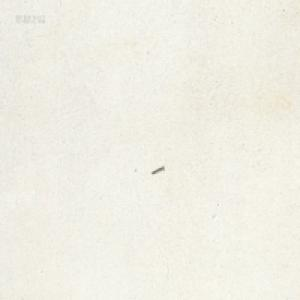Bolt: (150, 165, 164, 175)
